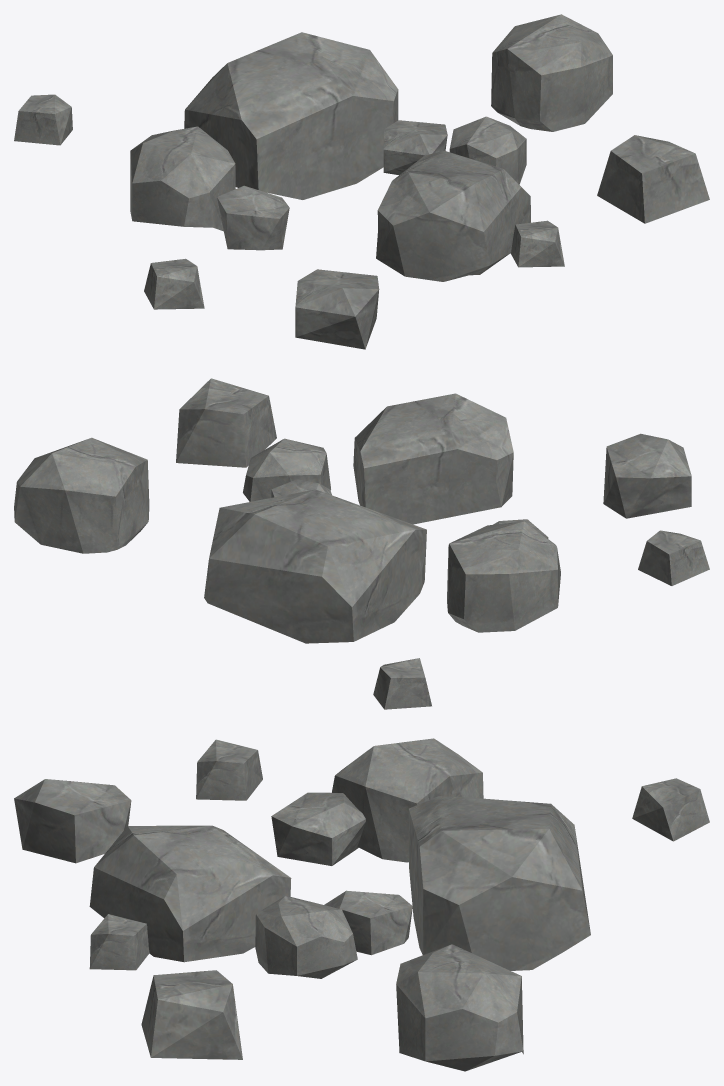
The model's file is CollectibleStone (2).fbx.
3 views of the same model, one above another, from view 1: azimuth 30°, elevation 25°; view 2: azimuth 150°, elevation 25°; view 3: azimuth 270°, elevation 25° (orthographic). The views are drawn at different scales.
Parts seen in each view (by area): view 1: ItemBox_Pebbles_01; view 2: ItemBox_Pebbles_01; view 3: ItemBox_Pebbles_01.
Boxes of the visible parts, x1,y1,x2,y2 form: ItemBox_Pebbles_01: (14, 14, 709, 349); ItemBox_Pebbles_01: (14, 378, 709, 709); ItemBox_Pebbles_01: (14, 738, 709, 1071).
Size of the model in its own units: 1.5 by 0.2778 by 1.44.
Materials: 1 (1 with a texture image).
